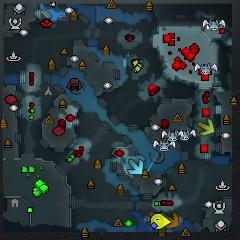p4: (150, 214, 170, 228)
x2: (197, 119, 215, 136)
x3: (128, 158, 144, 175)
x5: (166, 213, 180, 228)
